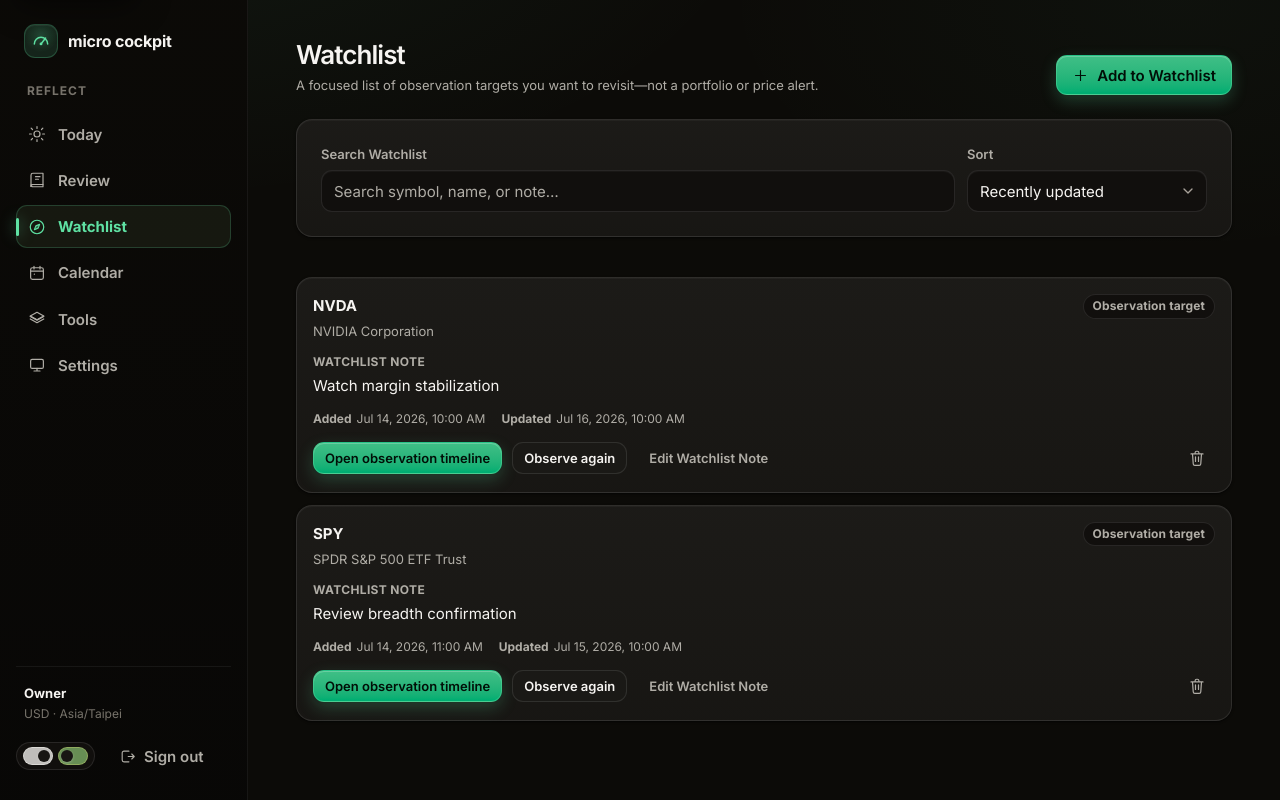
Test: populated watchlist exposes real fields and filters by note
Expected: the text "NVIDIA Corporation" is shown, left=313, top=323, right=434, bottom=339
Expected: the text "Watch margin stabilization" is shown, left=313, top=376, right=499, bottom=395
Type "breadth" into the search field labelled "Search Watchlist". click: (638,191)
box: left=321, top=170, right=955, bottom=212
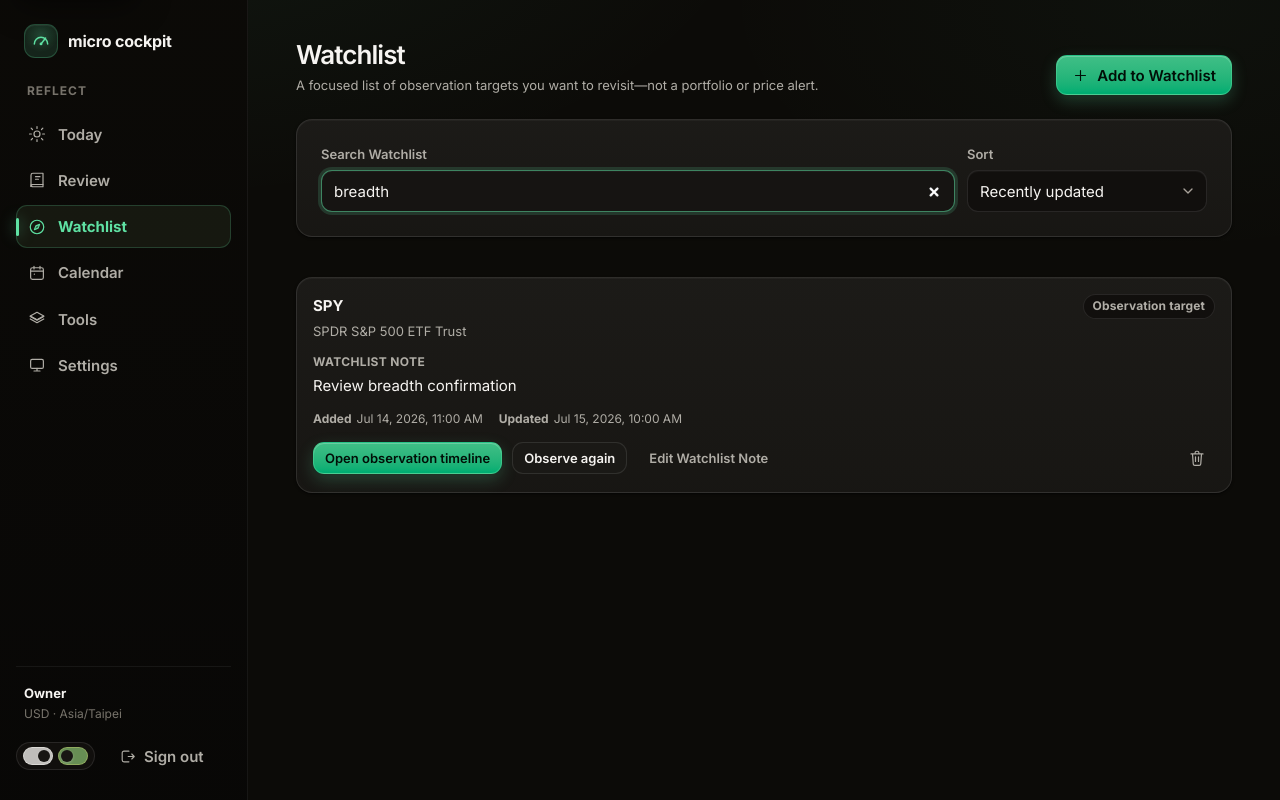
Expected: the text "SPDR S&P 500 ETF Trust" is shown, left=313, top=323, right=466, bottom=339
Expected: the text "NVIDIA Corporation" is gone
